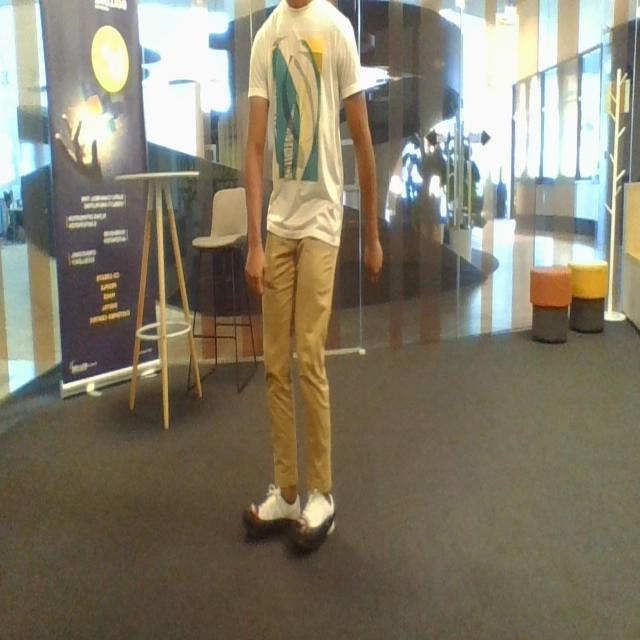shoes: (276, 491, 342, 559), (235, 482, 300, 546)
